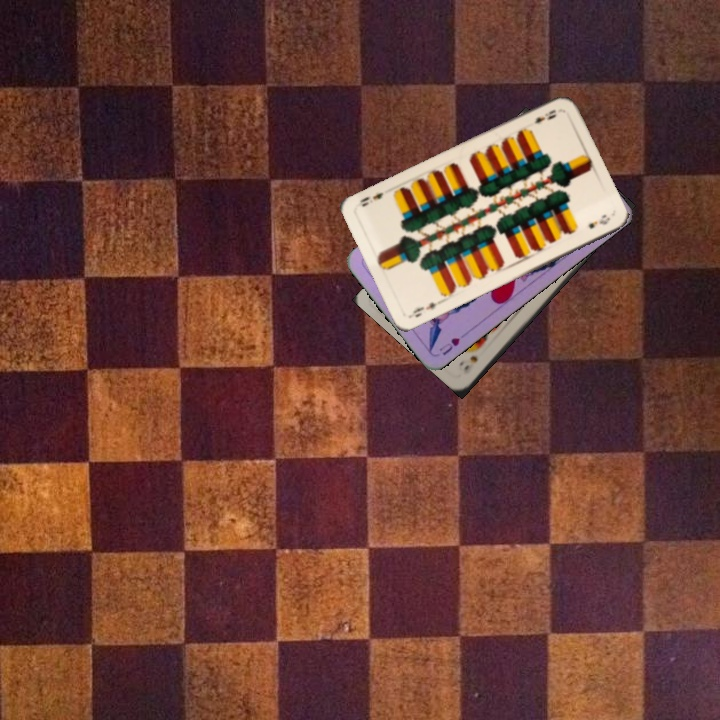E9: (408, 296, 444, 320), (530, 105, 559, 126)
HU: (435, 333, 462, 358)
S10: (459, 351, 480, 377)
